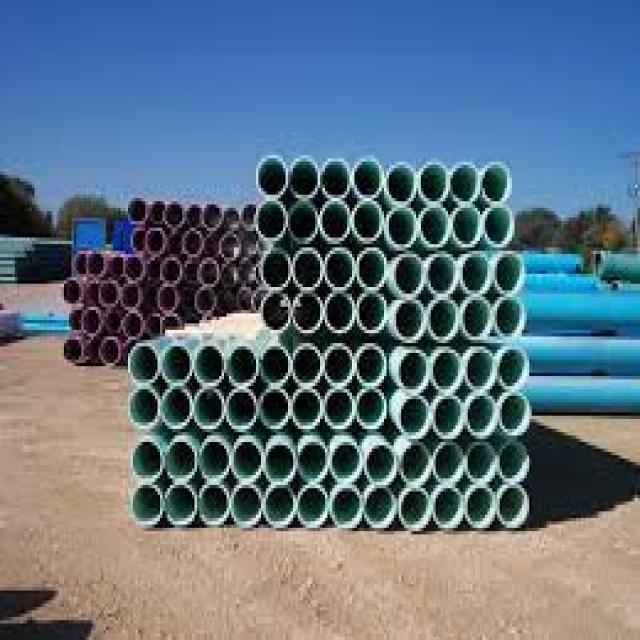pipe: (493, 253, 524, 295), (419, 162, 448, 204), (357, 249, 386, 291), (392, 256, 423, 294), (129, 345, 159, 384), (257, 157, 286, 197), (386, 164, 415, 203), (460, 253, 489, 292), (262, 346, 290, 386), (386, 208, 415, 246), (325, 250, 353, 289), (495, 297, 523, 336), (354, 202, 381, 242), (452, 207, 481, 244), (451, 164, 479, 202), (194, 345, 222, 383), (428, 255, 455, 294), (162, 347, 191, 383), (322, 203, 348, 243), (229, 347, 256, 385), (291, 158, 317, 197), (295, 294, 322, 331), (483, 165, 509, 203), (167, 443, 195, 478), (331, 443, 359, 478), (421, 209, 448, 245), (261, 250, 288, 286), (353, 160, 379, 197), (257, 201, 283, 238), (290, 203, 316, 240), (132, 488, 161, 521), (262, 293, 289, 328), (396, 301, 423, 336), (300, 443, 327, 478), (295, 345, 319, 384), (401, 397, 427, 433), (367, 445, 393, 481), (434, 444, 460, 480), (400, 352, 425, 389), (403, 444, 428, 481), (326, 294, 353, 328), (233, 488, 260, 522), (401, 490, 428, 524), (463, 298, 489, 333), (323, 161, 348, 197), (486, 207, 511, 243), (429, 301, 454, 337), (468, 396, 493, 432), (366, 488, 391, 524), (499, 351, 523, 388), (293, 252, 319, 286), (467, 445, 493, 479), (333, 489, 359, 523), (499, 489, 525, 523), (435, 399, 460, 434), (203, 442, 228, 477), (468, 489, 493, 524), (162, 392, 190, 423), (360, 293, 384, 329), (468, 351, 492, 387), (502, 394, 526, 430), (234, 443, 258, 479), (500, 445, 526, 478), (167, 488, 193, 521), (266, 490, 292, 523), (299, 489, 325, 522), (201, 487, 226, 521), (436, 489, 460, 524), (228, 394, 254, 426), (294, 392, 320, 424), (434, 352, 457, 388), (325, 350, 350, 383), (267, 447, 293, 478), (134, 443, 157, 478), (326, 393, 351, 425), (358, 349, 382, 382), (131, 391, 155, 424), (196, 392, 220, 423), (263, 394, 287, 424), (359, 394, 381, 424), (160, 257, 180, 284), (202, 203, 221, 230), (165, 200, 183, 228), (62, 278, 82, 303), (221, 234, 240, 259), (130, 198, 147, 224), (81, 311, 100, 334), (101, 338, 119, 362), (99, 281, 117, 305), (125, 257, 143, 280), (87, 253, 104, 277), (64, 339, 81, 362), (184, 231, 201, 254), (159, 287, 176, 310), (124, 314, 140, 338), (197, 290, 215, 311), (122, 285, 139, 307), (200, 262, 217, 284), (147, 230, 164, 251), (162, 315, 182, 331), (106, 311, 120, 331), (109, 255, 123, 274), (69, 307, 79, 331), (243, 205, 253, 229), (132, 230, 144, 249), (186, 261, 197, 281), (225, 210, 237, 228), (151, 201, 162, 220), (74, 252, 84, 272), (224, 266, 235, 284), (187, 206, 198, 224), (240, 289, 250, 306)
